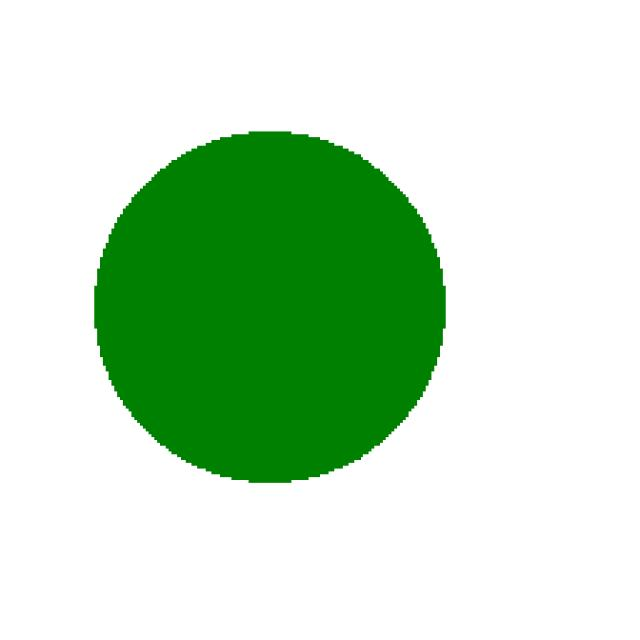Circle: (67, 99, 494, 520)
